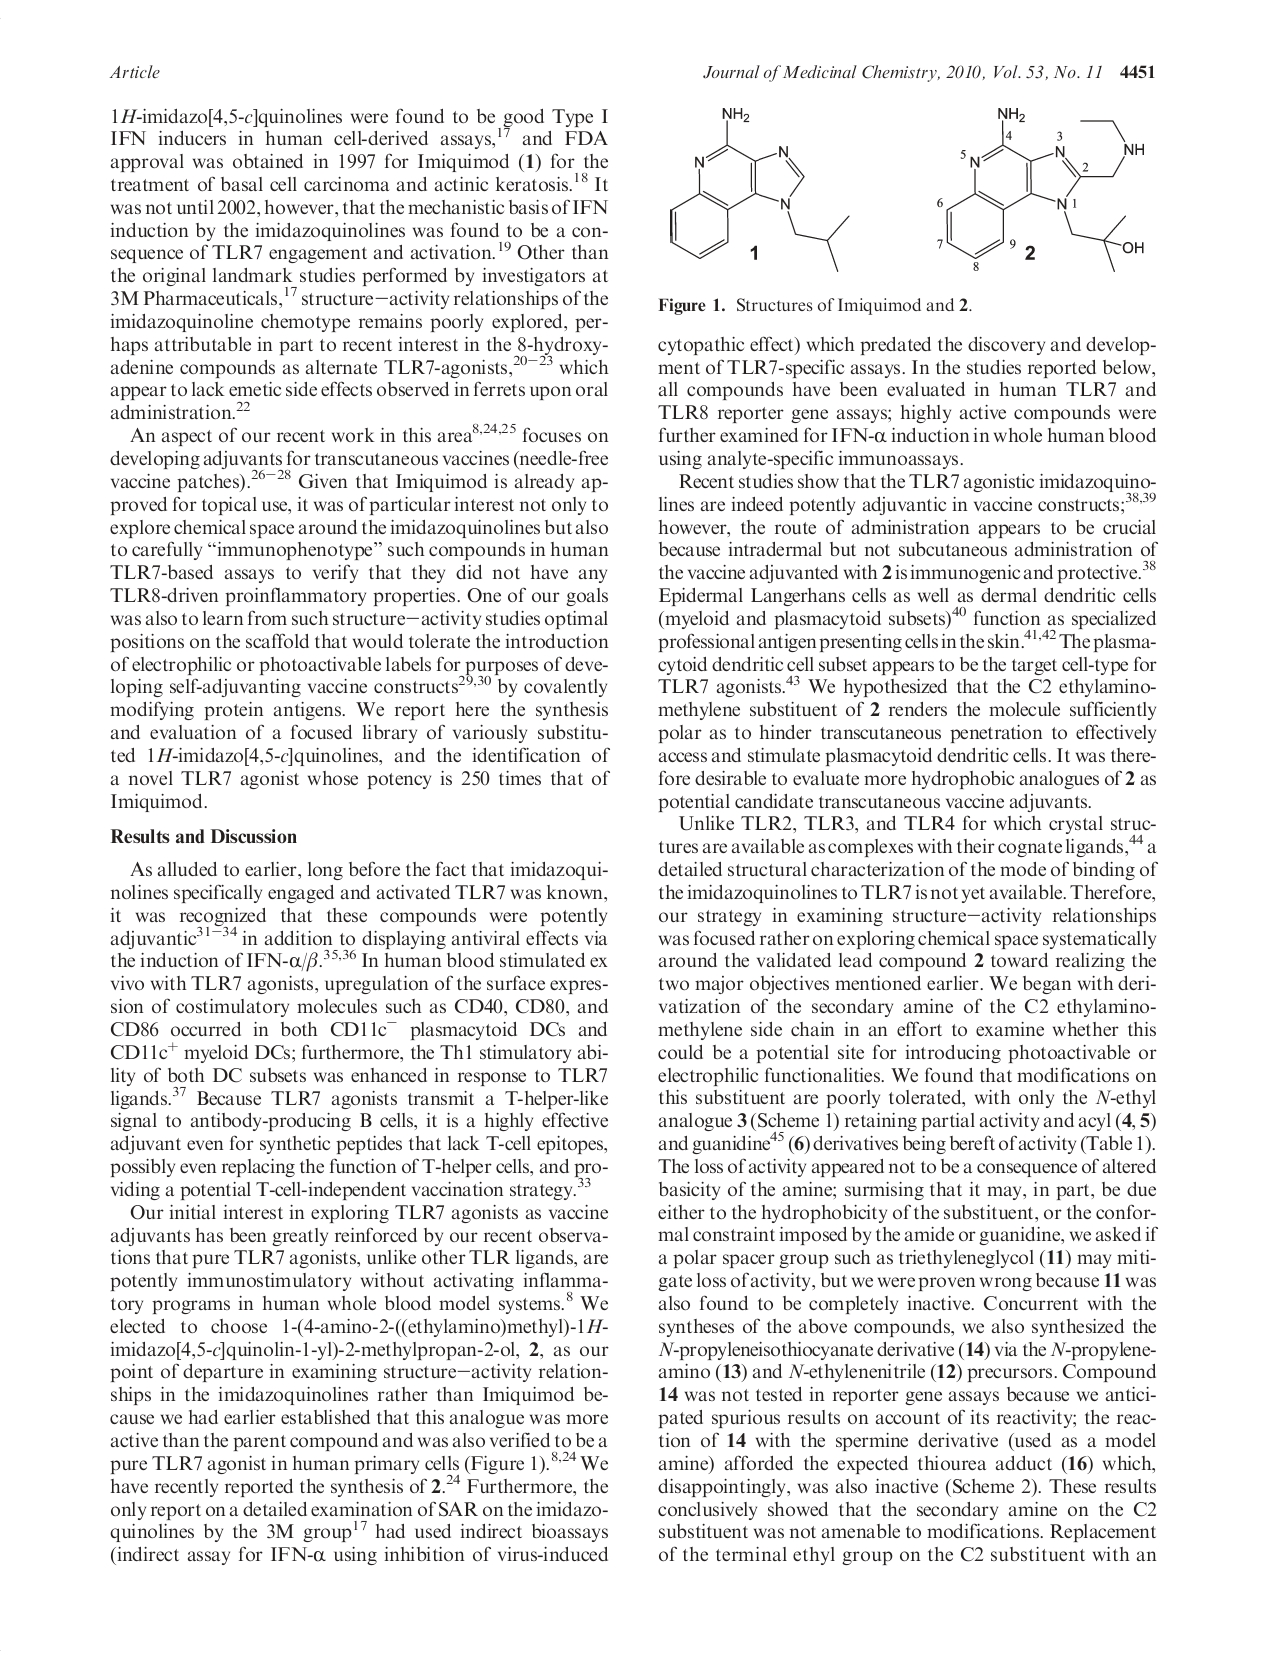exist_molecular: (934, 106, 1145, 274), (668, 106, 850, 275)
